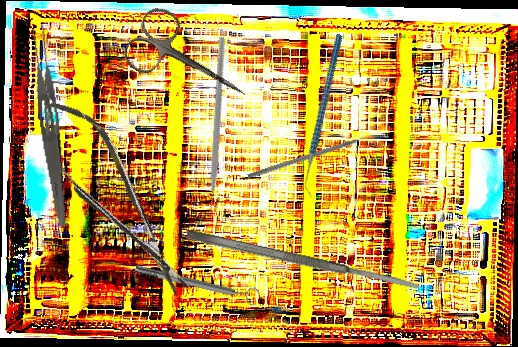Chopper: (127, 35, 295, 223), (256, 33, 394, 199)
Dressing Forceps: (26, 25, 76, 228)
Fixation Ring: (133, 258, 260, 308)
Hook Surgical: (247, 134, 373, 180)
Iris Scissors: (118, 1, 262, 125)
Micro Scissor: (27, 87, 202, 311)
Spatula Surgical: (185, 227, 421, 294)
